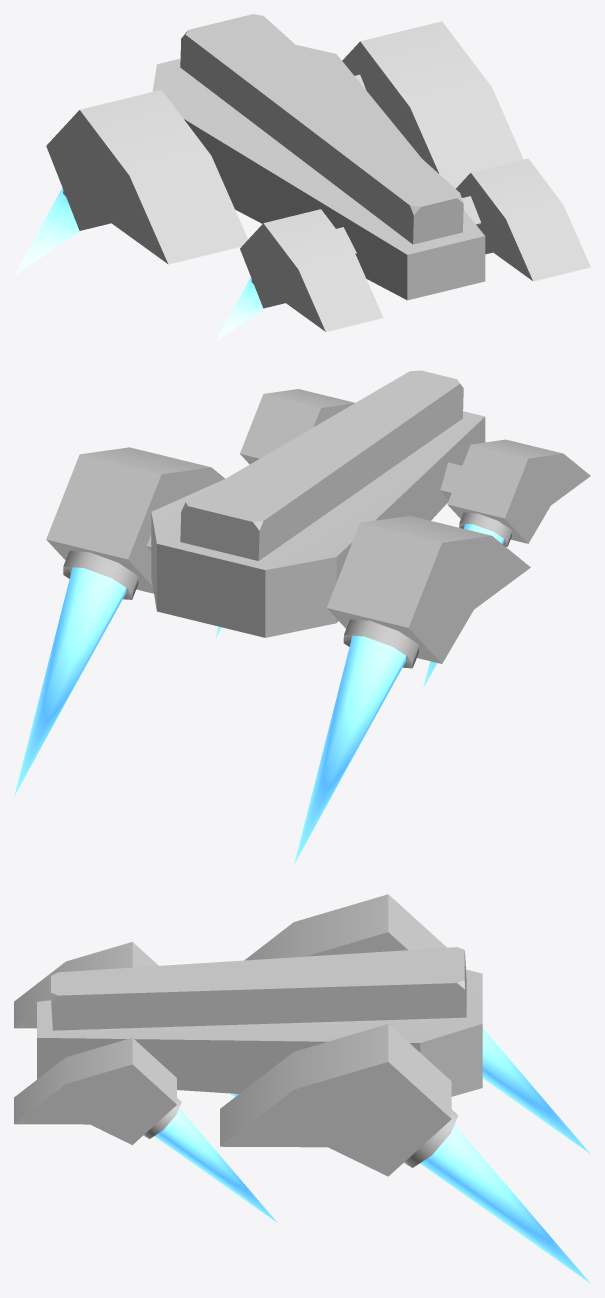
Rendered from MegaCargo.fbx.
3 views of the same model, one above another, from view 1: azimuth 30°, elevation 25°; view 2: azimuth 150°, elevation 25°; view 3: azimuth 270°, elevation 25° (orthographic). The views are drawn at different scales.
Parts seen in each view (by area): view 1: MegaCargoShip, MegaCargoThrusters; view 2: MegaCargoShip, MegaCargoThrusters; view 3: MegaCargoShip, MegaCargoThrusters.
Part boxes in pixels (x1=…): MegaCargoShip: x1=46, y1=14, x2=590, y2=331; MegaCargoThrusters: x1=14, y1=188, x2=264, y2=341; MegaCargoShip: x1=46, y1=370, x2=590, y2=668; MegaCargoThrusters: x1=14, y1=524, x2=503, y2=864; MegaCargoShip: x1=14, y1=894, x2=482, y2=1176; MegaCargoThrusters: x1=154, y1=1028, x2=590, y2=1282.
Size of the model in its own units: 1672 by 1183 by 2432.
